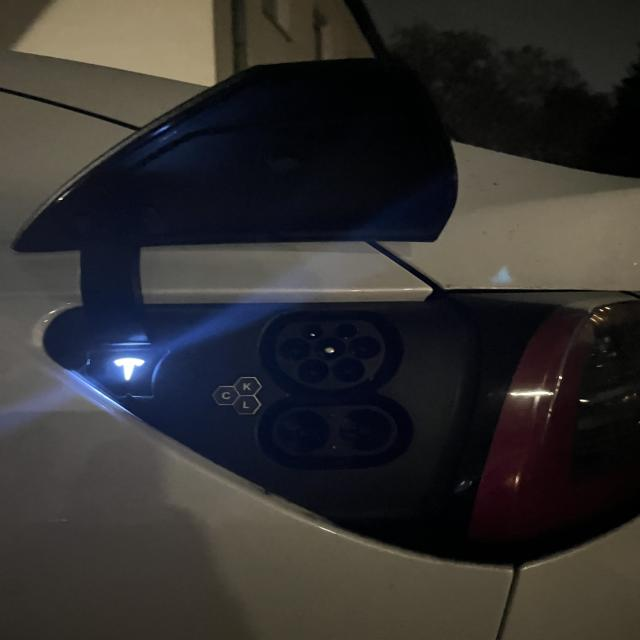inlet: (275, 320, 385, 389)
inlet-above-left: (301, 324, 323, 339)
inlet-above-right: (337, 323, 357, 339)
inlet-below-left: (298, 358, 329, 383)
inlet-below-right: (332, 357, 365, 382)
inlet-circle: (314, 338, 346, 359)
inlet-circle-left: (281, 338, 311, 361)
inlet-circle-right: (348, 336, 381, 359)
inlet-minus: (339, 409, 391, 450)
inlet-plus: (279, 411, 329, 451)
